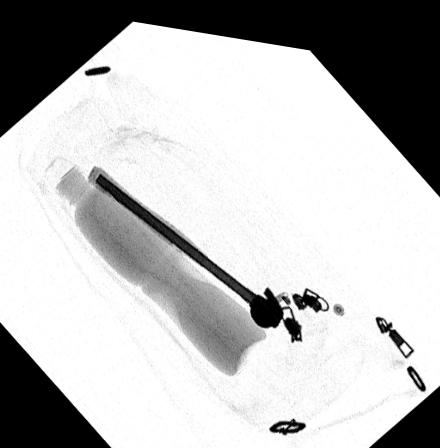Hammer: (86, 160, 284, 319)
